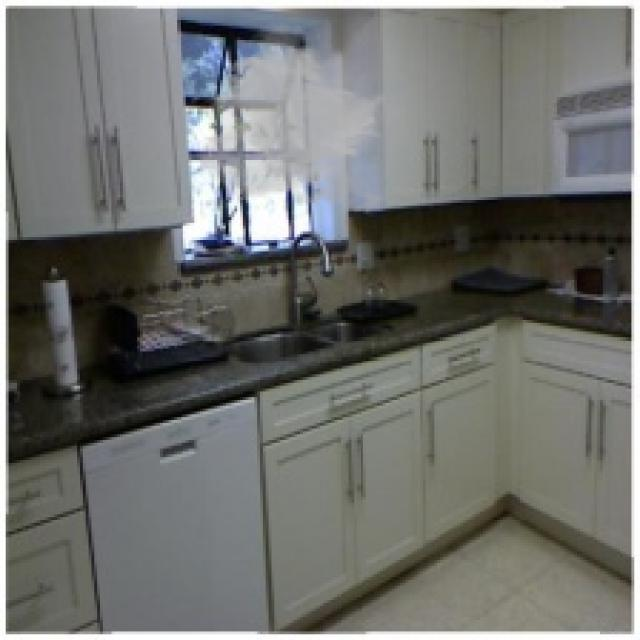smoke: (194, 17, 406, 220)
